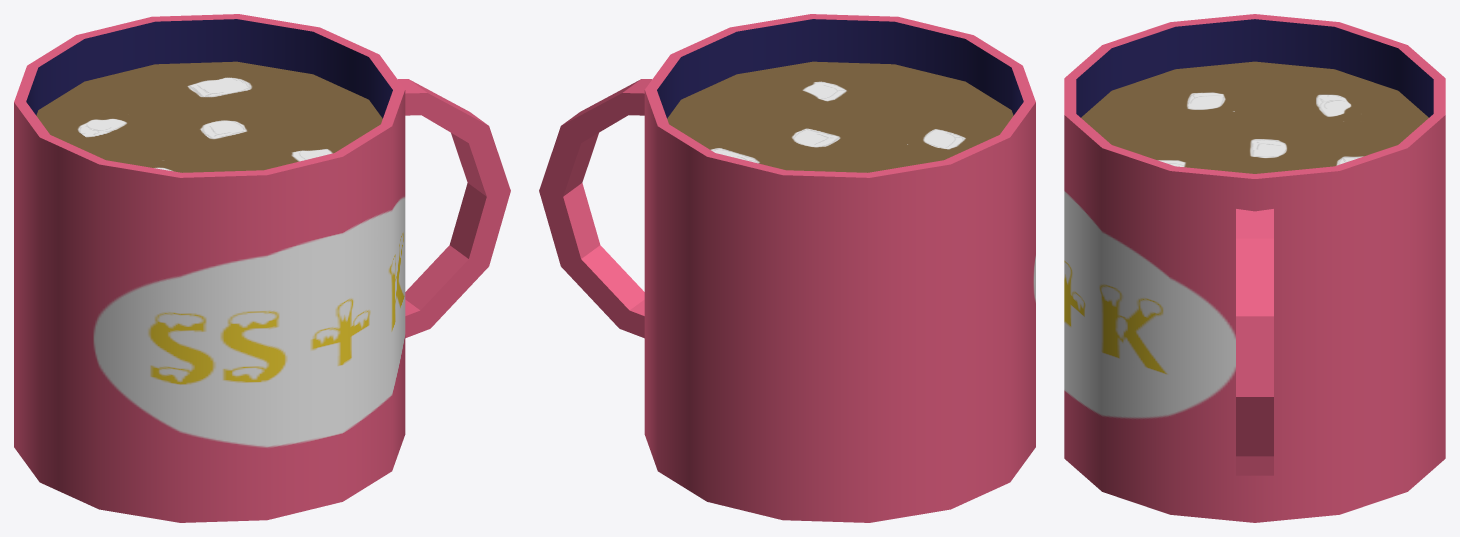
File: Mug.fbx
3 renders of one model, left to right at view 1: azimuth 30°, elevation 25°; view 2: azimuth 150°, elevation 25°; view 3: azimuth 270°, elevation 25°, orthographic.
Visible parts, largest first — view 1: group2; view 2: group2; view 3: group2.
Part boxes in pixels (box(x1,y1,x2,y2)): group2: box(14, 14, 510, 522); group2: box(539, 14, 1035, 522); group2: box(1064, 14, 1445, 522).
Size of the model in its own units: 2.72 by 1.94 by 1.95.
